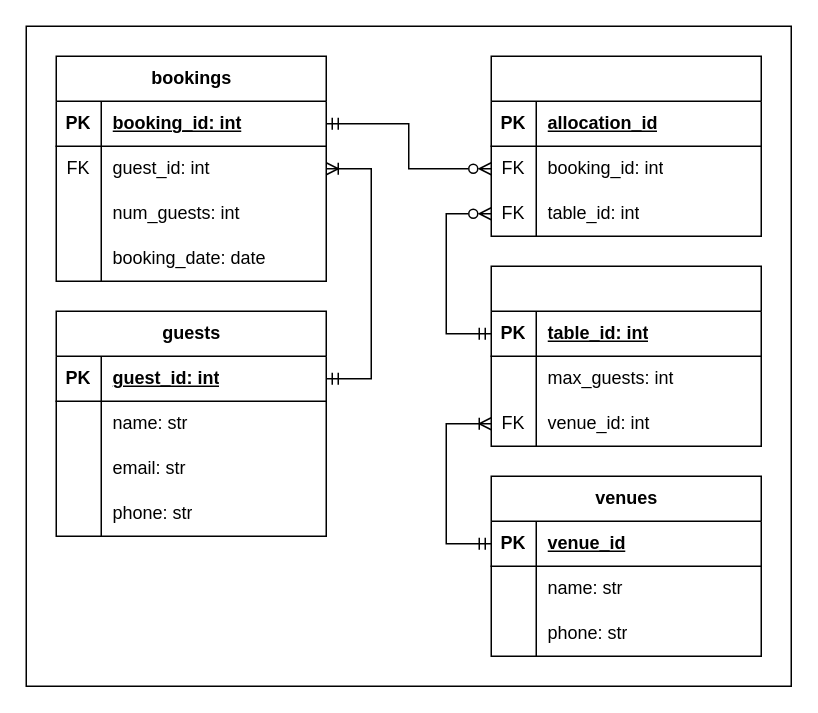
Some shapes in this 818 by 713 pixel diagram are drawn without their labels. The box of each missing label's shape, as (x1, y1, x2, y2) in pixels:
allocations: (490, 55, 761, 236)
tables: (490, 265, 761, 446)
